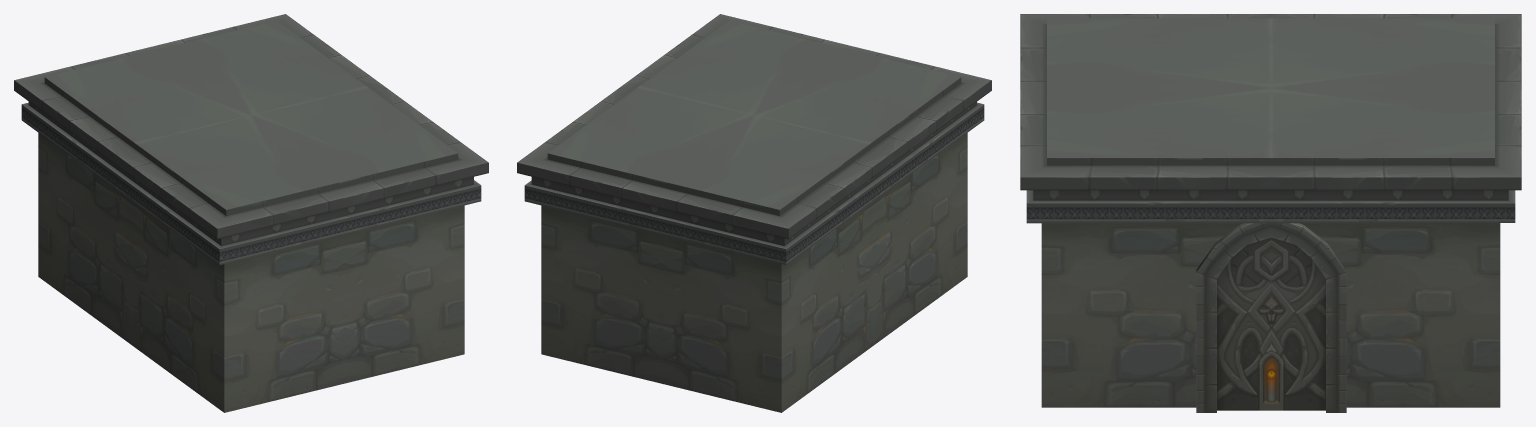
The model's file is sc_dungeon_moshenta_fangzi_001_c02.FBX.
3 renders of one model, left to right at view 1: azimuth 30°, elevation 25°; view 2: azimuth 150°, elevation 25°; view 3: azimuth 270°, elevation 25°, orthographic. The views are drawn at different scales.
Parts seen in each view (by area): view 1: sc_dungeon_moshenta_fangzi_001_c02; view 2: sc_dungeon_moshenta_fangzi_001_c02; view 3: sc_dungeon_moshenta_fangzi_001_c02.
Part boxes in pixels (x1,y1,x2,y2): sc_dungeon_moshenta_fangzi_001_c02: (14,14,488,412); sc_dungeon_moshenta_fangzi_001_c02: (517,14,991,412); sc_dungeon_moshenta_fangzi_001_c02: (1020,14,1521,412).
Size of the model in its own units: 7.2 by 5.12 by 9.32.
Materials: 1 (1 with a texture image).
